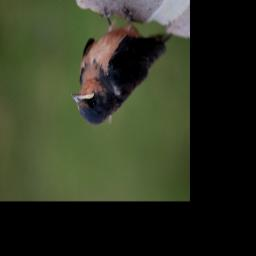Swallow: (71, 4, 173, 126)
